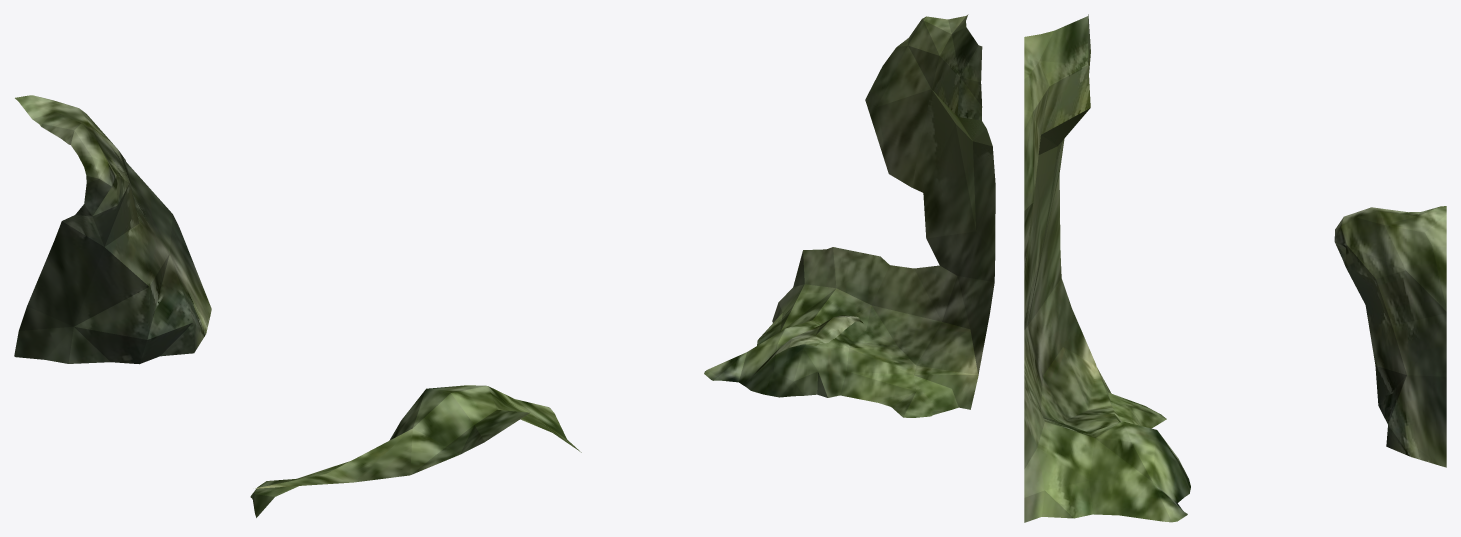
3 renders of one model, left to right at view 1: azimuth 30°, elevation 25°; view 2: azimuth 150°, elevation 25°; view 3: azimuth 270°, elevation 25°, orthographic. The views are drawn at different scales.
Size of the model in its own units: 2.08 by 2.95 by 2.95.
Materials: 2 (2 with a texture image).
